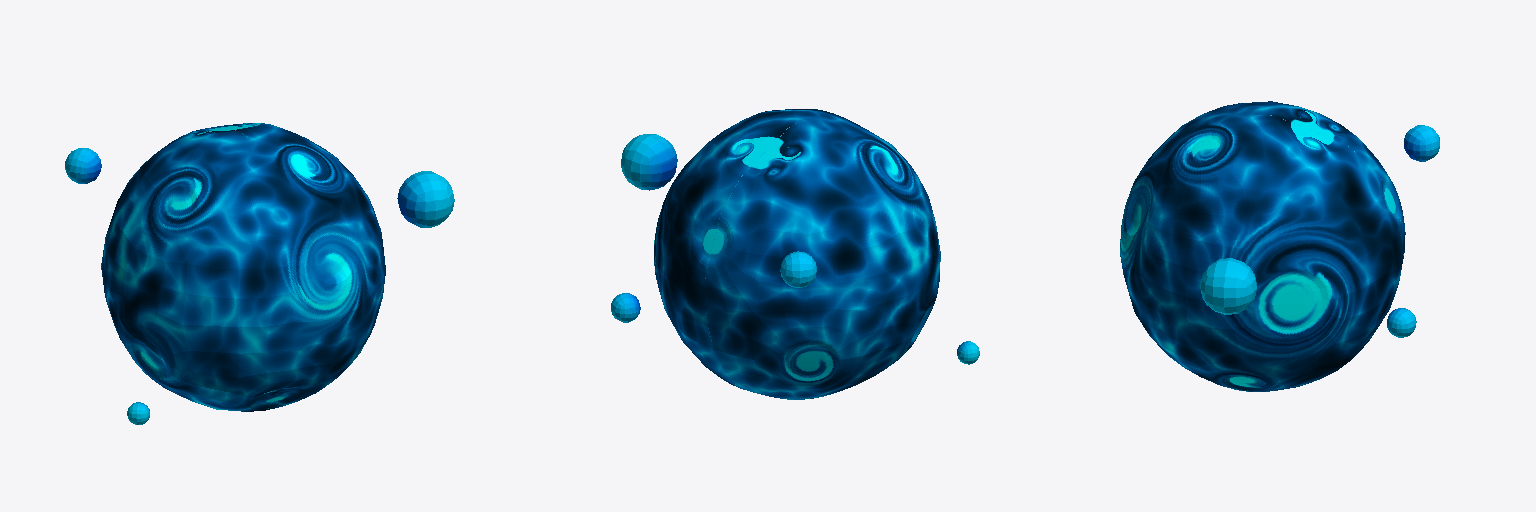
The picture shows the model from 3 angles: view 1: azimuth 30°, elevation 25°; view 2: azimuth 150°, elevation 25°; view 3: azimuth 270°, elevation 25°; orthographic projection.
Visible parts, largest first — view 1: WaterPlanet; view 2: WaterPlanet; view 3: WaterPlanet.
Part boxes in pixels (bbox=[...]): WaterPlanet: bbox=[65, 123, 454, 424]; WaterPlanet: bbox=[611, 109, 979, 399]; WaterPlanet: bbox=[1120, 101, 1439, 391].
Bounding box in the file's own units: 183 × 136 × 150.
1 materials, 1 textured.